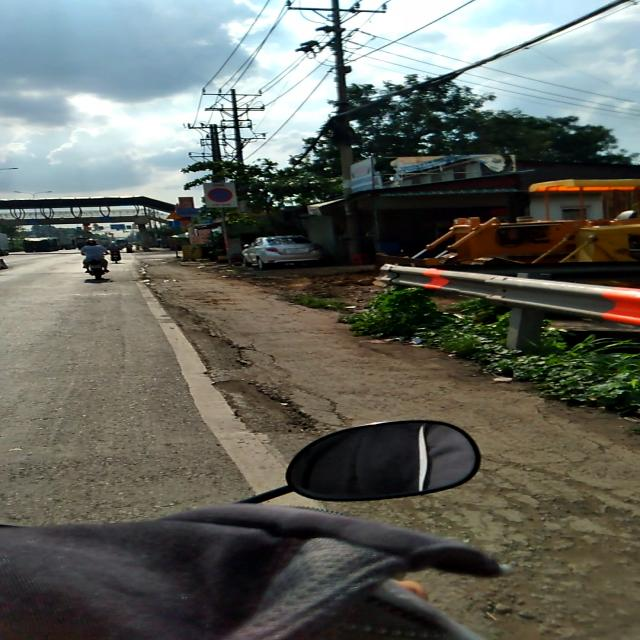P.130: (207, 188, 233, 202)
